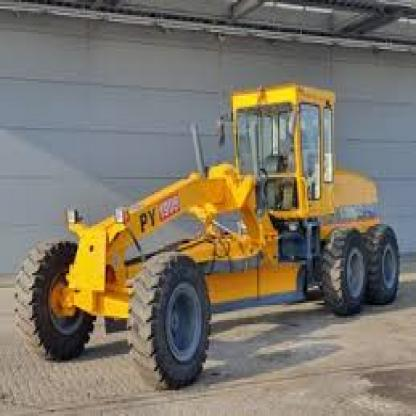bull_dozer/loader/grader: (21, 75, 408, 390)
